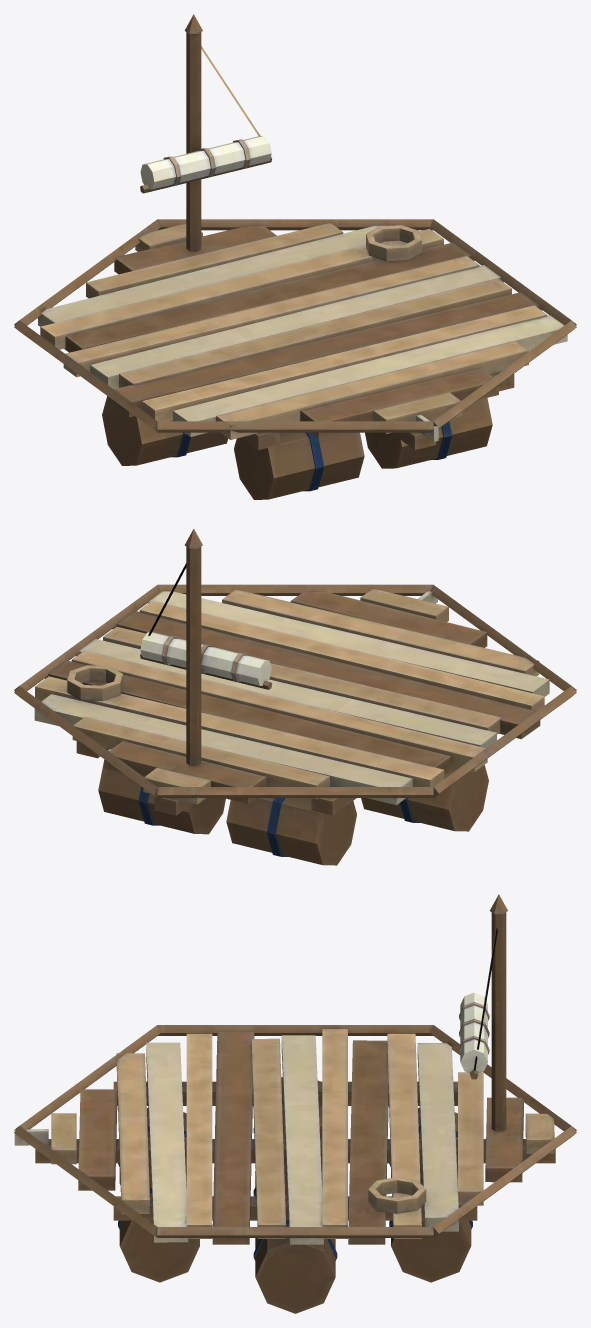
File: raft-a-age1.glb
3 views of the same model, one above another, from view 1: azimuth 30°, elevation 25°; view 2: azimuth 150°, elevation 25°; view 3: azimuth 270°, elevation 25° (orthographic).
Visible parts, largest first — view 1: raft-a-age1; view 2: raft-a-age1; view 3: raft-a-age1.
Boxes of the visible parts, box(x1,y1,x2,y2) form: raft-a-age1: box(14, 14, 576, 499); raft-a-age1: box(14, 529, 576, 865); raft-a-age1: box(14, 894, 576, 1313).
Bounding box in the file's own units: 1.59 × 1.21 × 1.83.
Materials: 1 (1 with a texture image).
